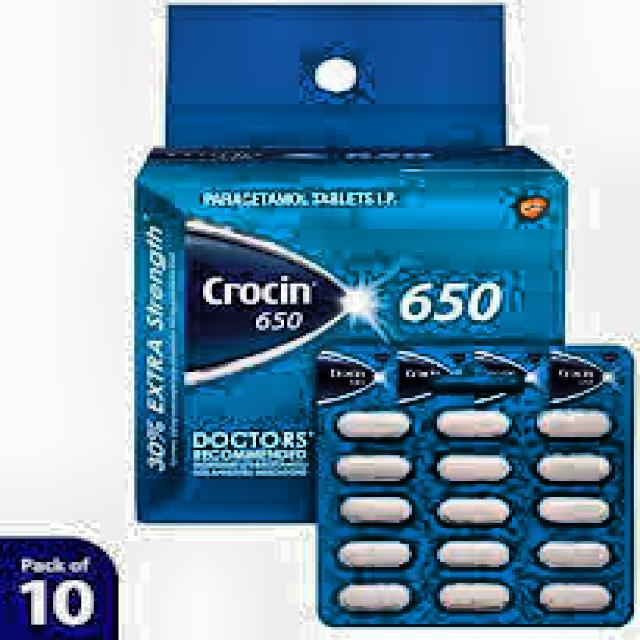Crocin: (185, 220, 343, 378)
